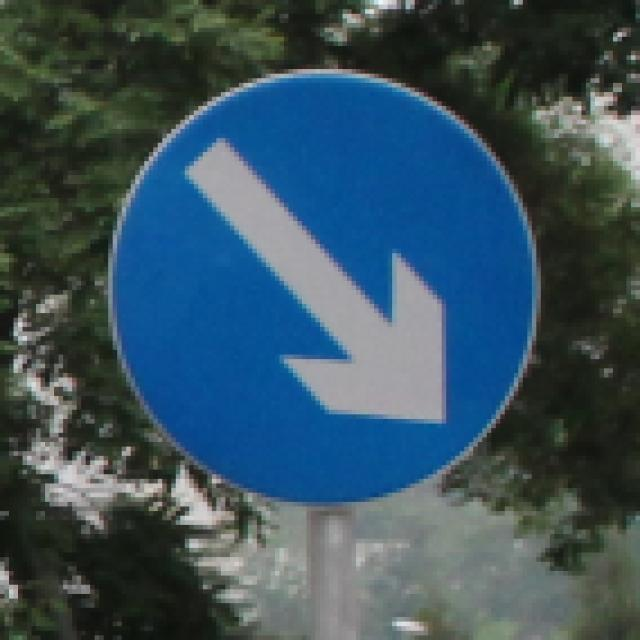Right: (114, 67, 538, 495)
